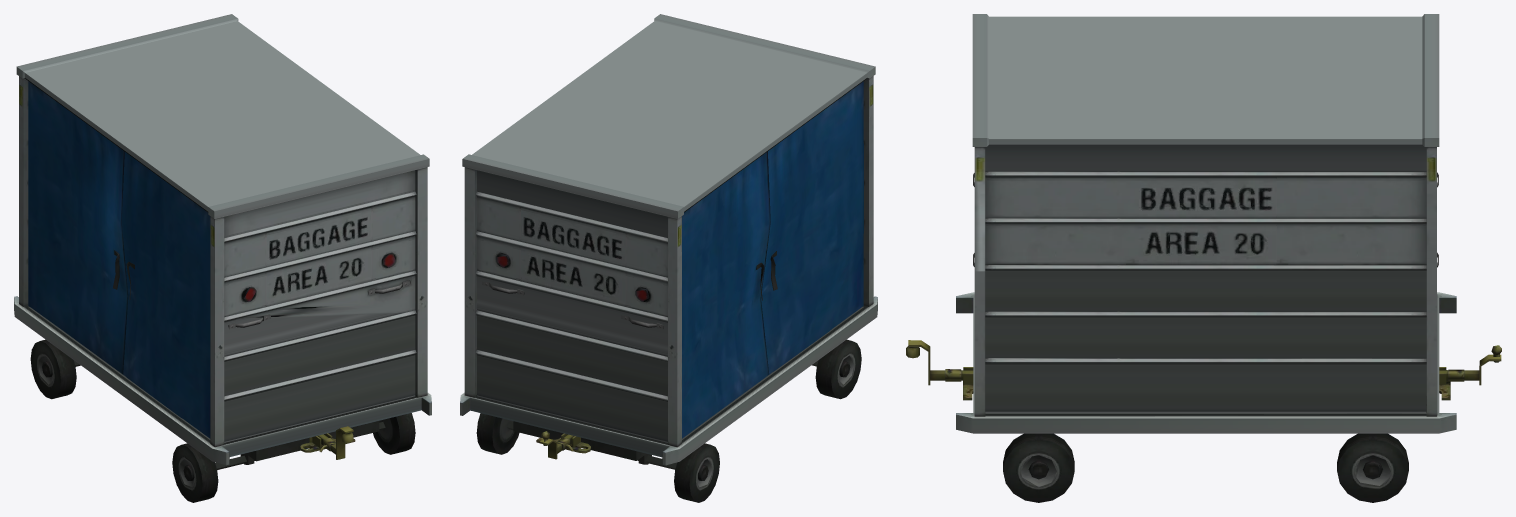
The model's file is bag-cart.lod0.glb.
3 views of the same model, side by side, from view 1: azimuth 30°, elevation 25°; view 2: azimuth 150°, elevation 25°; view 3: azimuth 270°, elevation 25° (orthographic). The views are drawn at different scales.
Visible parts, largest first — view 1: Object_2; view 2: Object_2; view 3: Object_2.
Boxes of the visible parts, left/top/right/bottom form: Object_2: left=14, top=14, right=431, bottom=502; Object_2: left=460, top=14, right=877, bottom=502; Object_2: left=906, top=14, right=1501, bottom=502.
Size of the model in its own units: 1.5 by 2.03 by 3.
Materials: 1 (1 with a texture image).
